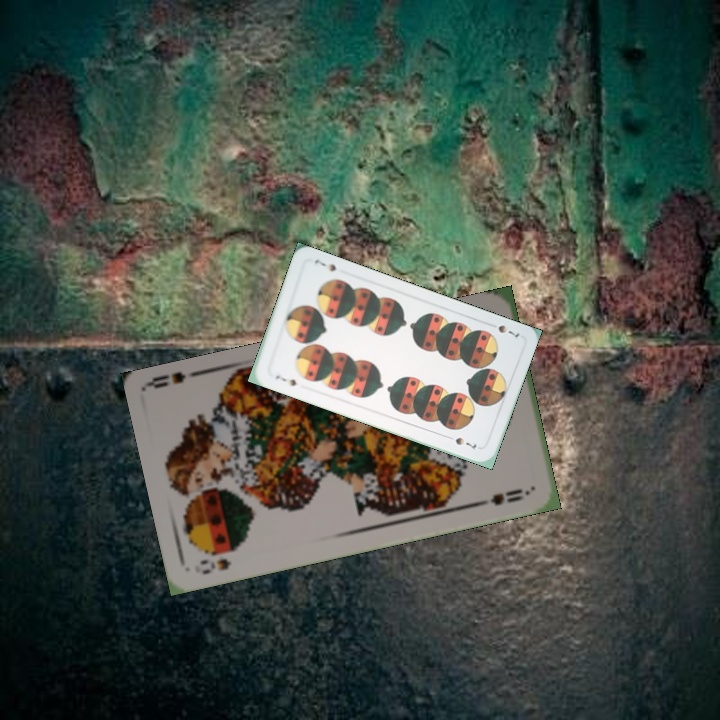S7: (484, 319, 522, 340), (271, 371, 299, 389)
SO: (195, 554, 233, 577)
